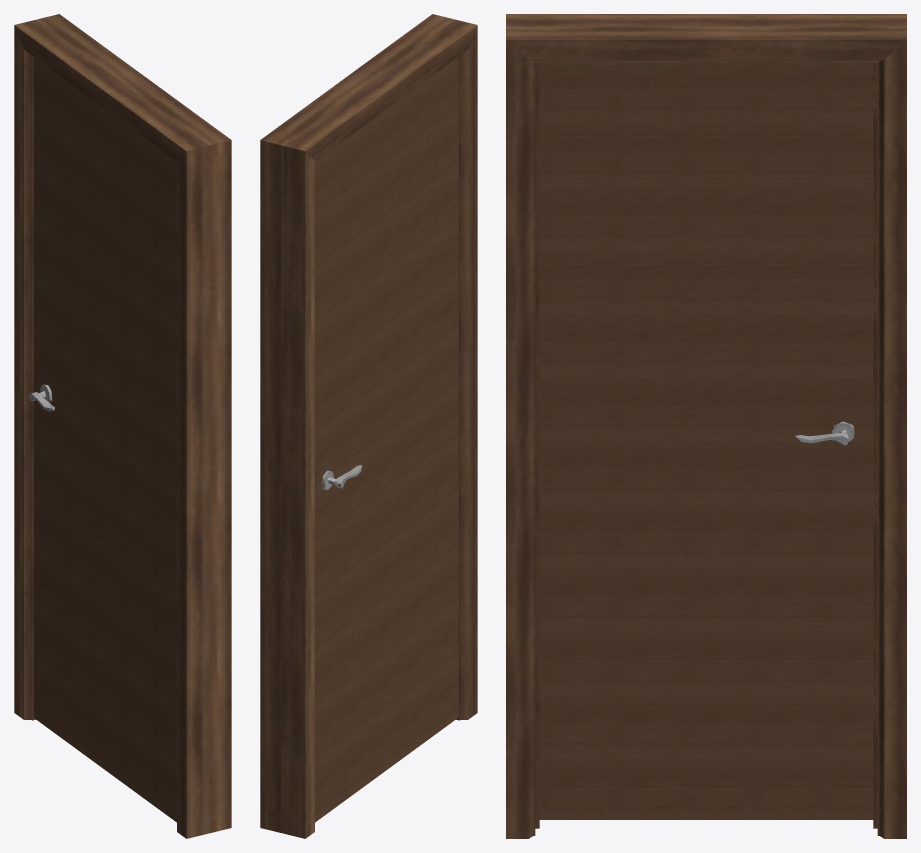
The model's file is Door0022.obj.
3 views of the same model, side by side, from view 1: azimuth 30°, elevation 25°; view 2: azimuth 150°, elevation 25°; view 3: azimuth 270°, elevation 25° (orthographic). The views are drawn at different scales.
Size of the model in its own units: 0.182 by 2.12 by 0.964.
Materials: 1 (1 with a texture image).
